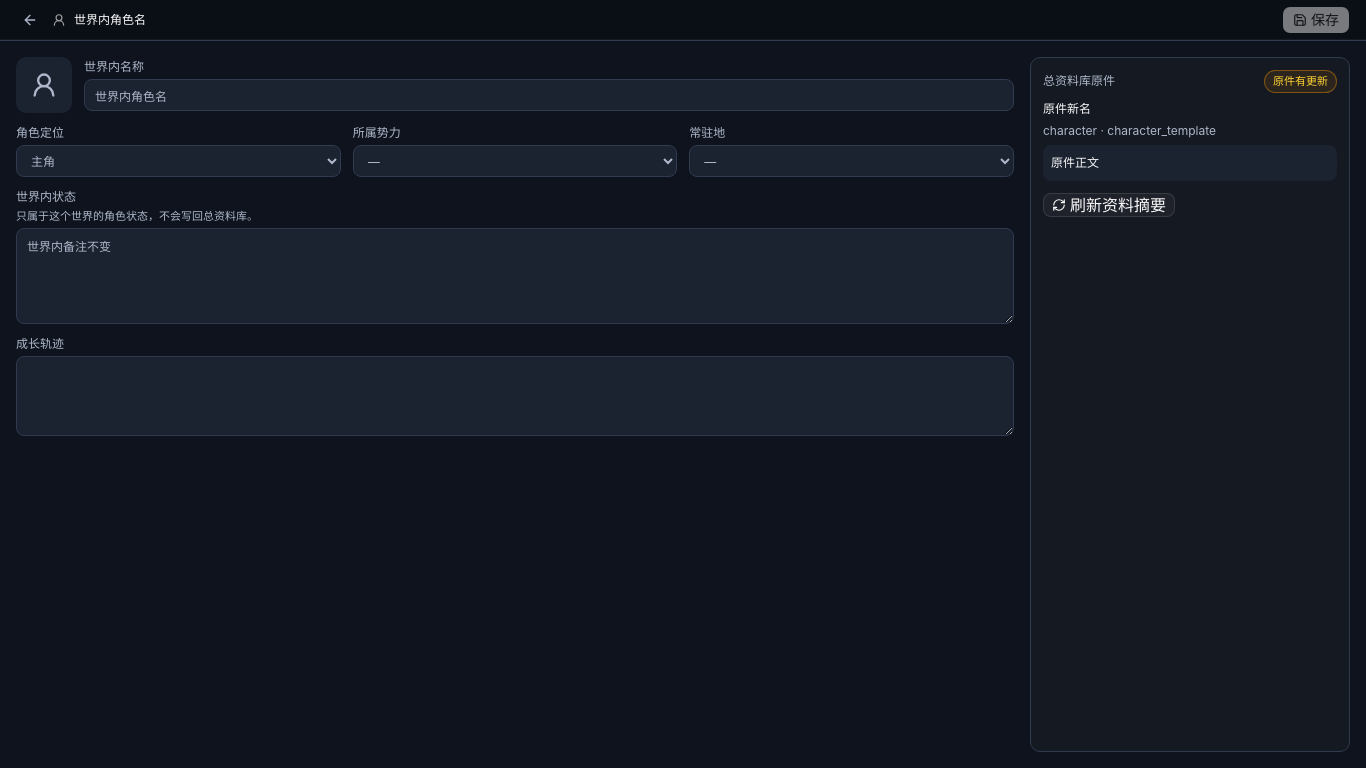
Test case: CharacterProfile 显式刷新 › 网络/5xx：unavailable、不改 world
This screenshot has width=1366, height=768.
Expected: the text "原件正文" is shown, top-left (1043, 144), bottom-right (1337, 180)
Click the button "刷新资料摘要".
click(1109, 204)  # box top-left (1043, 192), bottom-right (1175, 216)
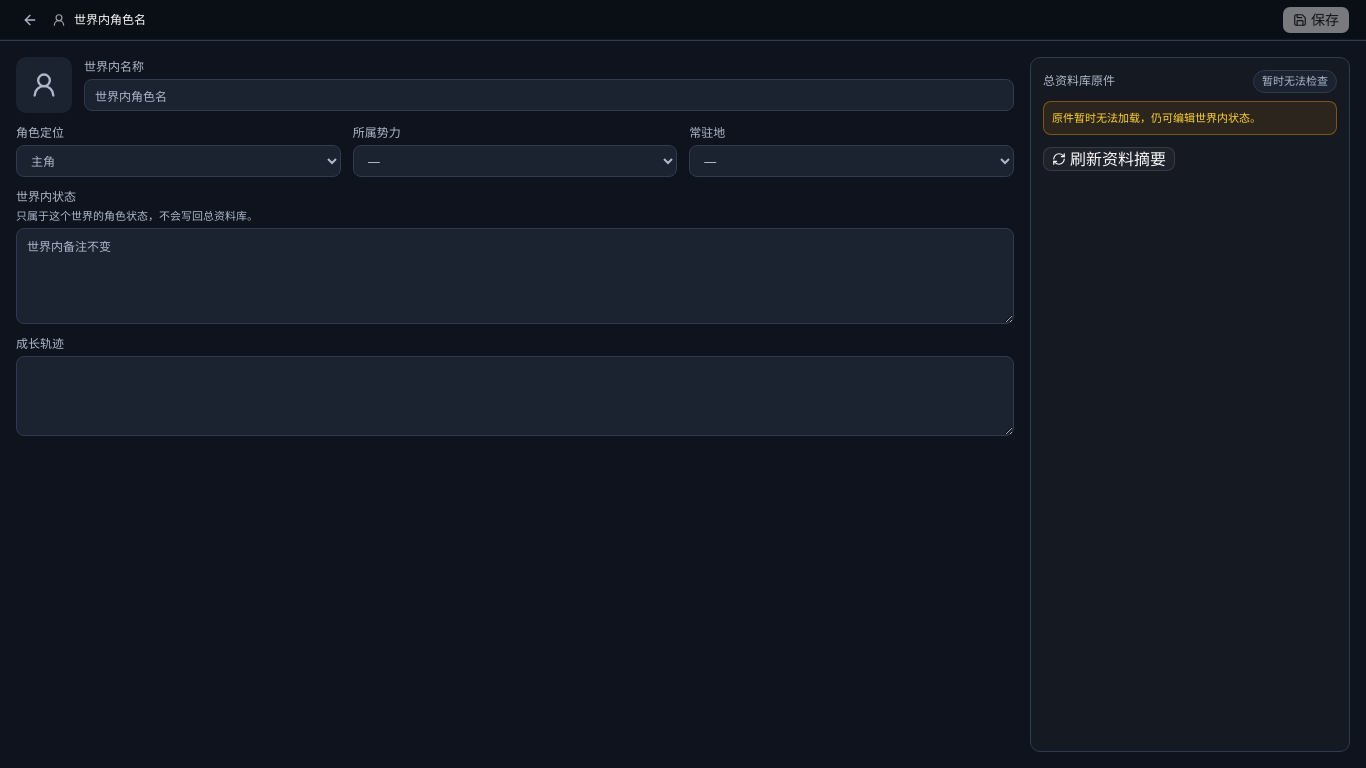
Expected: the text "暂时无法检查" is shown, top-left (1253, 70), bottom-right (1337, 92)
